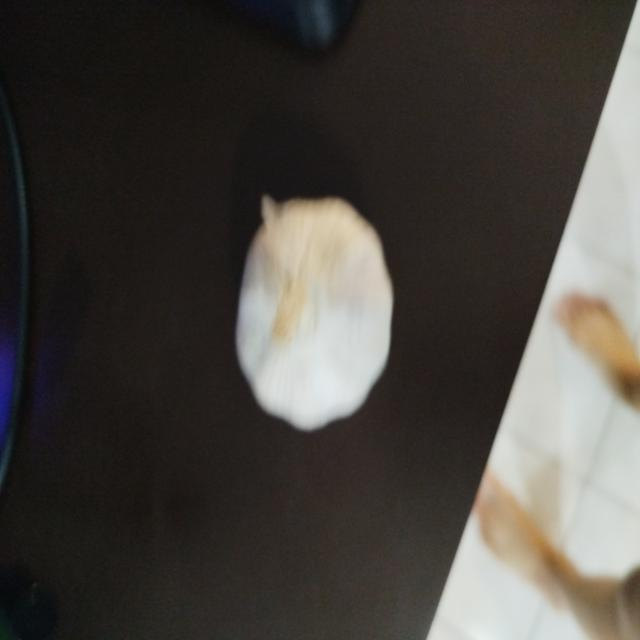garlic: (204, 170, 422, 459)
